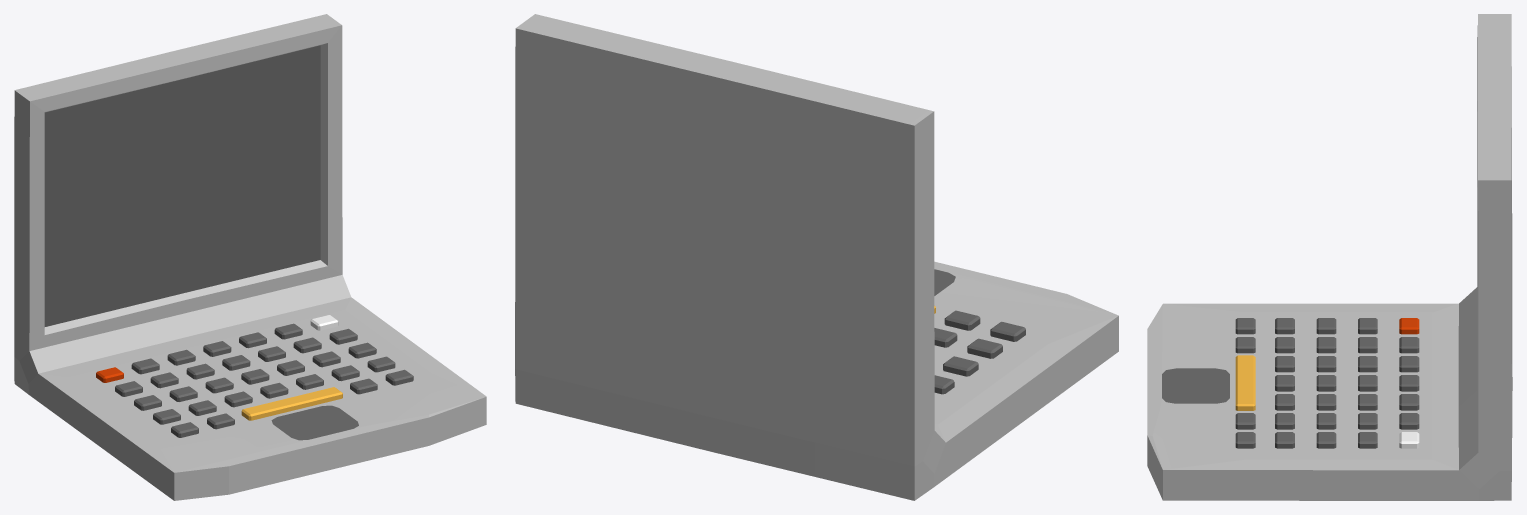
File: Laptop_1.fbx
3 renders of one model, left to right at view 1: azimuth 30°, elevation 25°; view 2: azimuth 150°, elevation 25°; view 3: azimuth 270°, elevation 25°, orthographic. The views are drawn at different scales.
Parts seen in each view (by area): view 1: Laptop_1; view 2: Laptop_1; view 3: Laptop_1.
Part boxes in pixels (bbox=[...]): Laptop_1: bbox=[14, 14, 486, 500]; Laptop_1: bbox=[515, 14, 1118, 500]; Laptop_1: bbox=[1147, 14, 1512, 500].
Size of the model in its own units: 0.3127 by 0.2806 by 0.2888.
